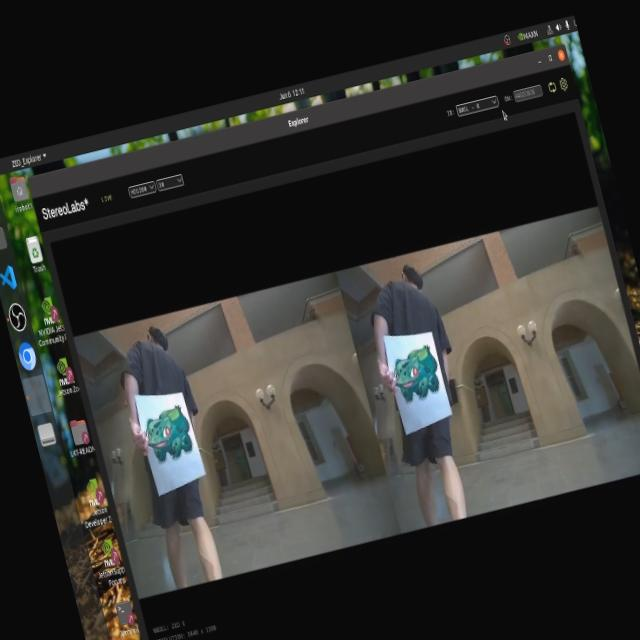green: (380, 340, 448, 403), (138, 396, 198, 461)
